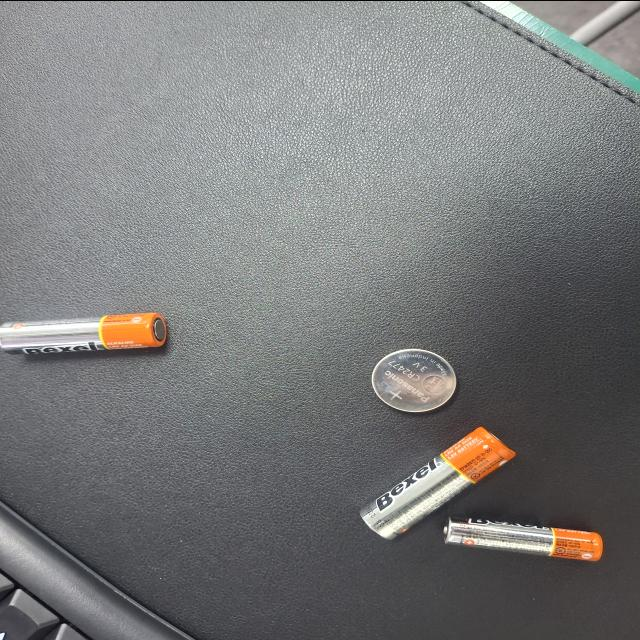AA: (565, 259, 640, 373), (414, 514, 474, 640)
COIN: (464, 296, 548, 362)
